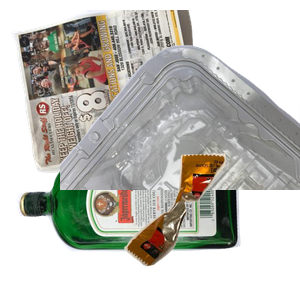glass: (14, 150, 247, 300)
paper: (10, 10, 210, 175)
plastic: (60, 43, 300, 223)
trash: (122, 151, 300, 300)
